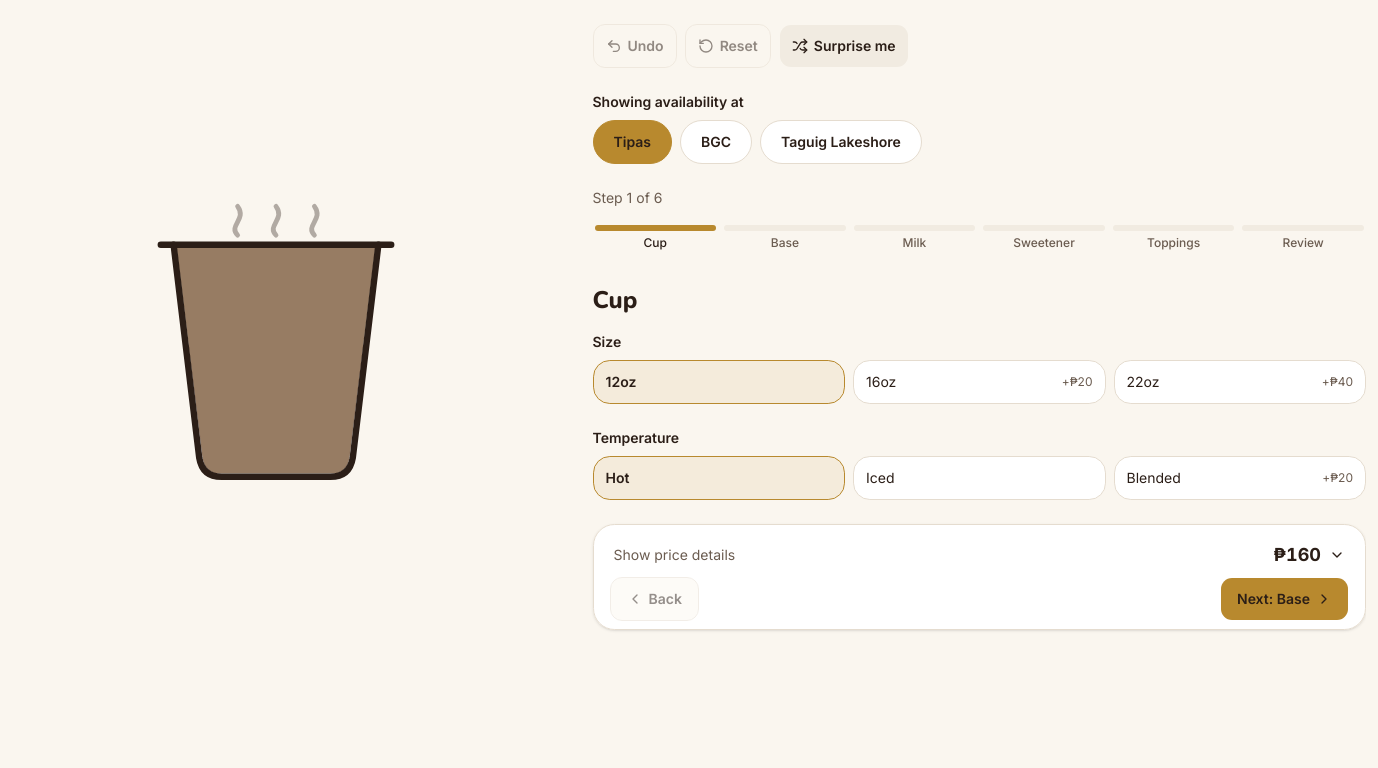
Test case: CoffeeBuilder › disables and labels options sold out at the selected branch
The image size is (1378, 768).
Click the button "Milk" at (914, 238), box [852,216,977,260]
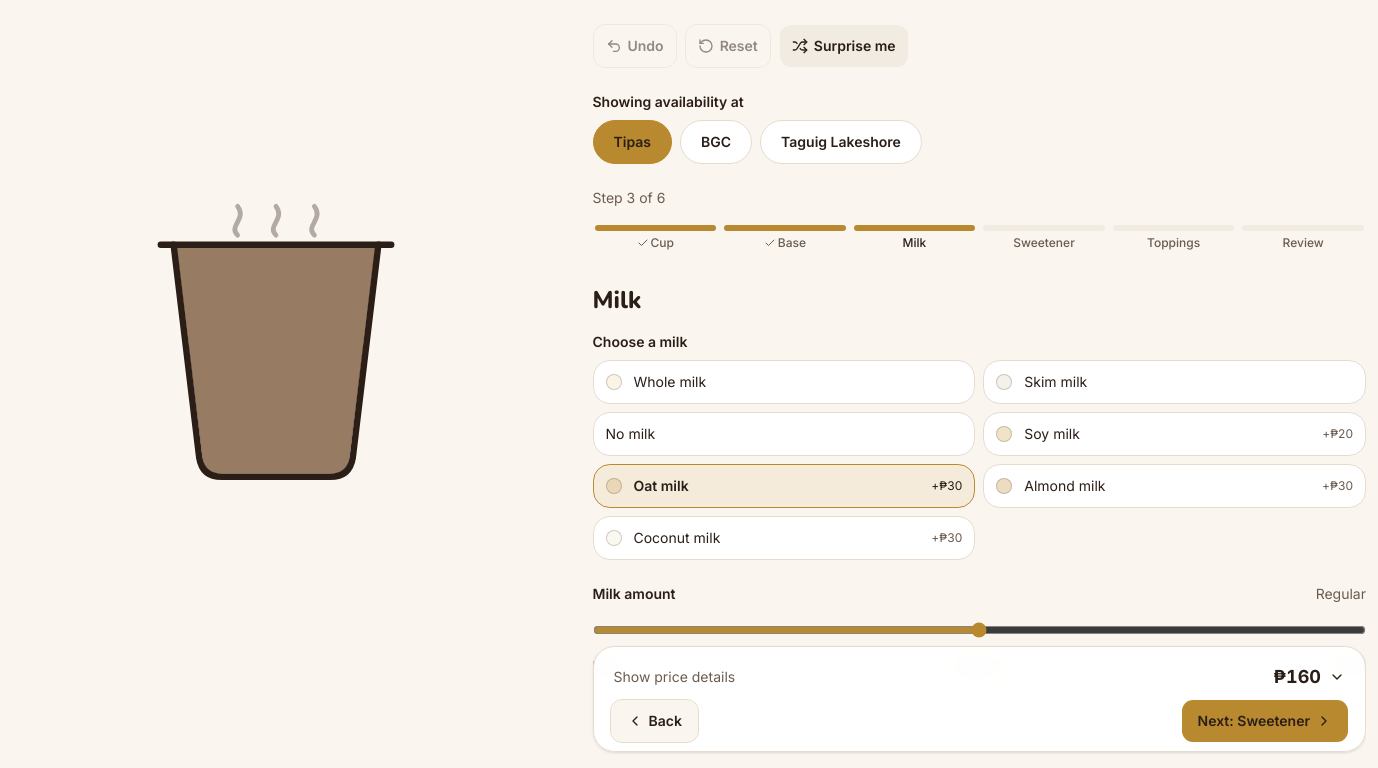
Result: the radio button labelled "Oat milk +₱30" is enabled at [592,464,975,508]
Click the button "BGC" at (716, 142), box [680,120,752,164]
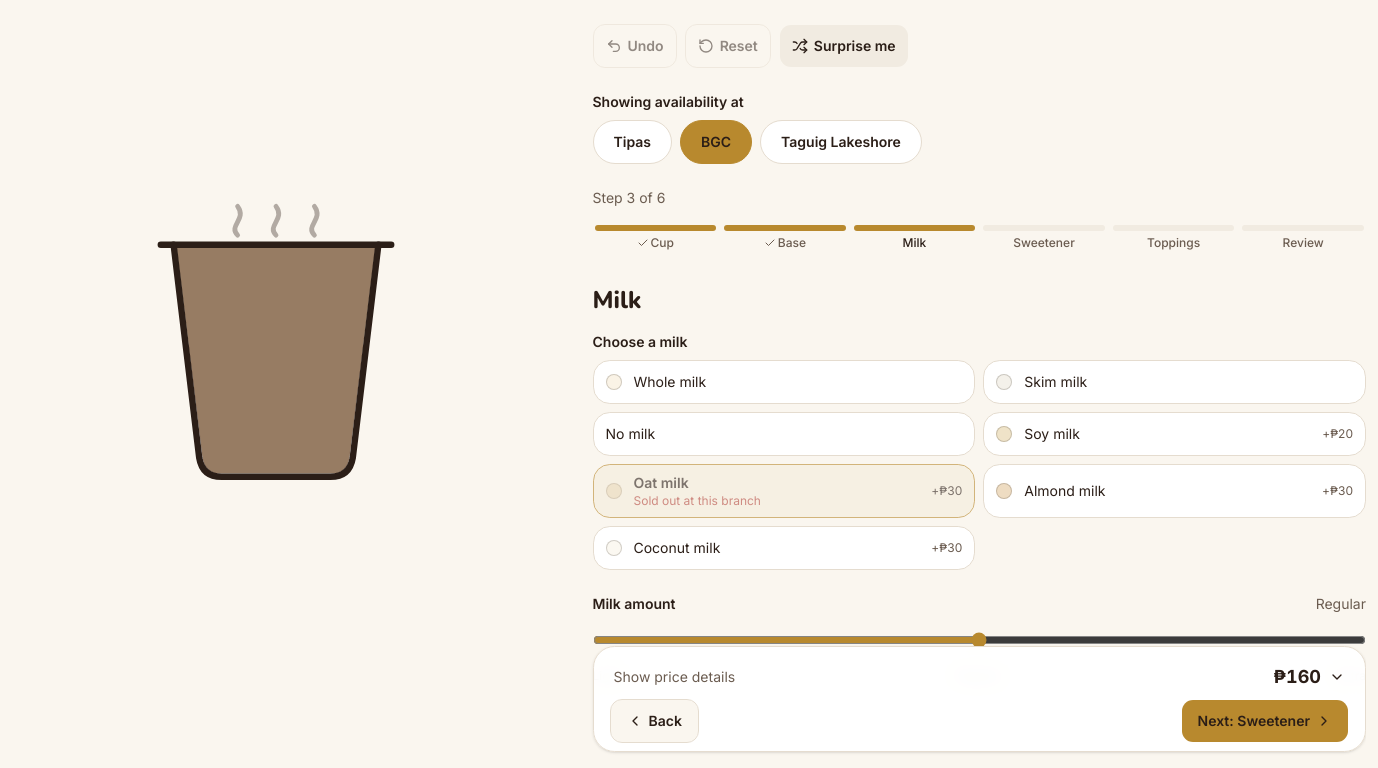
Result: the radio button labelled "Oat milk Sold out at this branch +₱30" is disabled at [592,464,975,518]
Result: the radio button labelled "Oat milk Sold out at this branch +₱30" is shown at [592,464,975,518]
Click the button "Review" at (1303, 238), box [1240,216,1366,260]
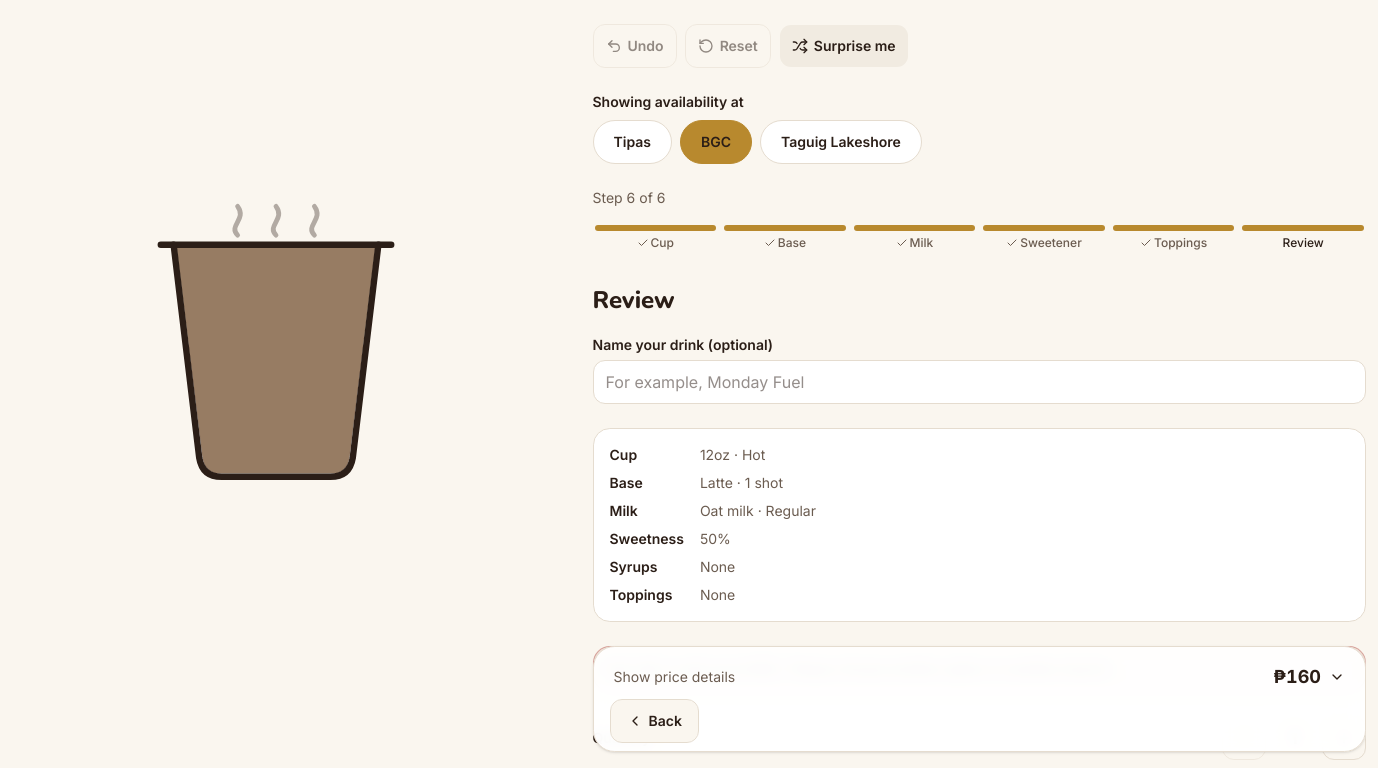
Result: the message shows "Oat milk is sold out at BGC." at [592,646,1366,692]
